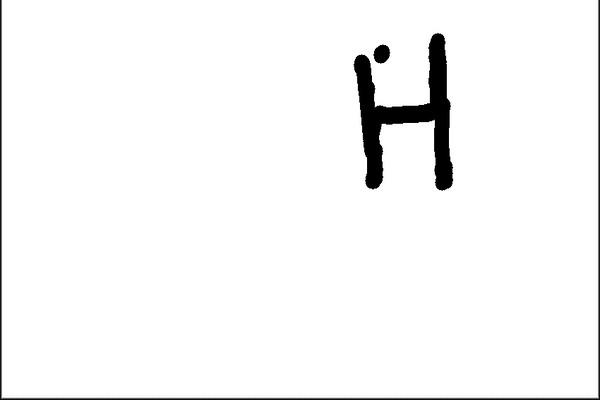H: (343, 28, 460, 202)
